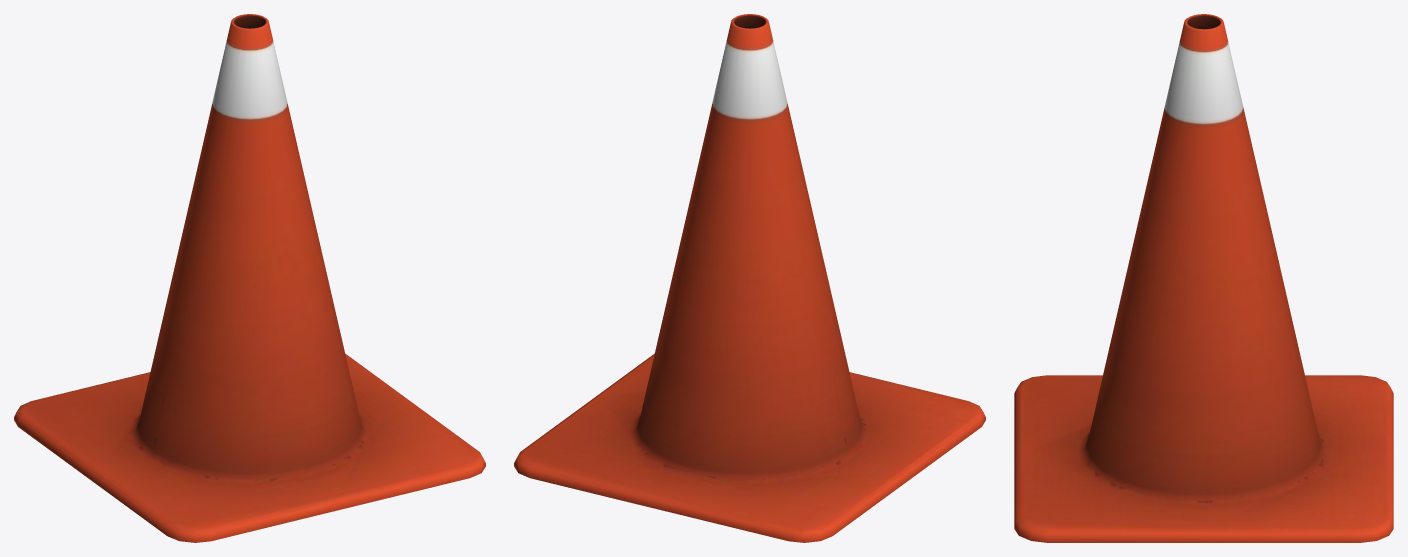
3 views of the same model, side by side, from view 1: azimuth 30°, elevation 25°; view 2: azimuth 150°, elevation 25°; view 3: azimuth 270°, elevation 25° (orthographic). The views are drawn at different scales.
Visible parts, largest first — view 1: body0_model0_lod0_mesh0; view 2: body0_model0_lod0_mesh0; view 3: body0_model0_lod0_mesh0.
Part boxes in pixels (x1=…): body0_model0_lod0_mesh0: x1=14, y1=14, x2=485, y2=542; body0_model0_lod0_mesh0: x1=514, y1=14, x2=985, y2=542; body0_model0_lod0_mesh0: x1=1014, y1=14, x2=1393, y2=542.
Size of the model in its own units: 32 by 41 by 32.
Materials: 1 (1 with a texture image).
